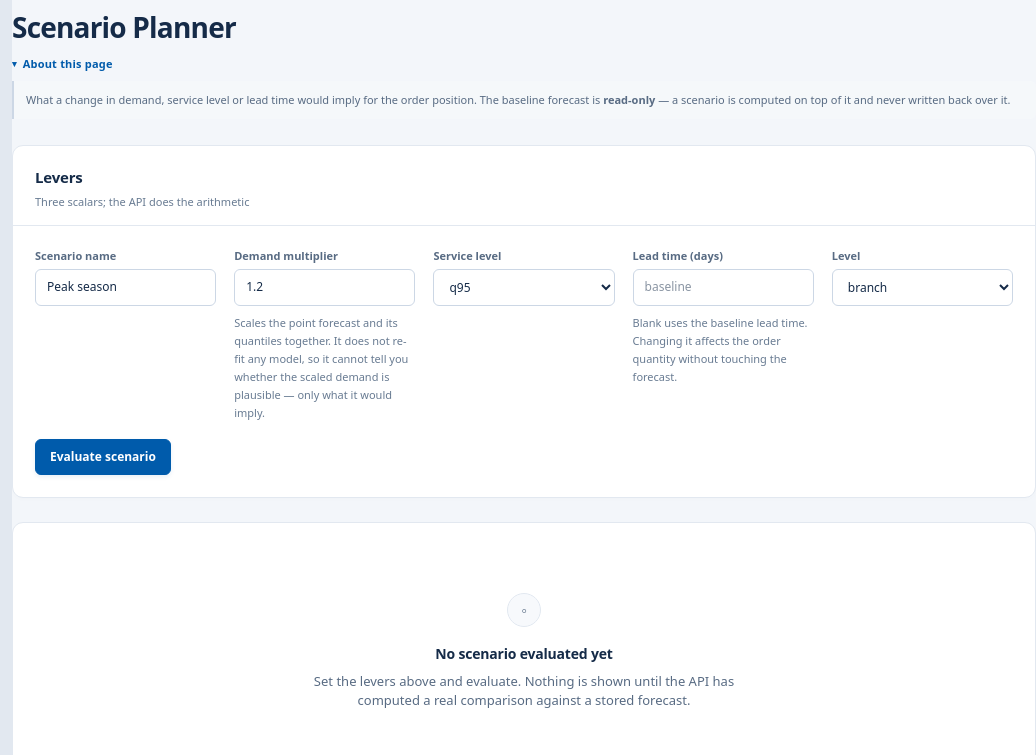
Test: ScenarioPlannerPage › shows each lever beside its baseline value
Click the button "Evaluate scenario".
click(103, 457)  # box [35,439,171,475]
(page scrolled)
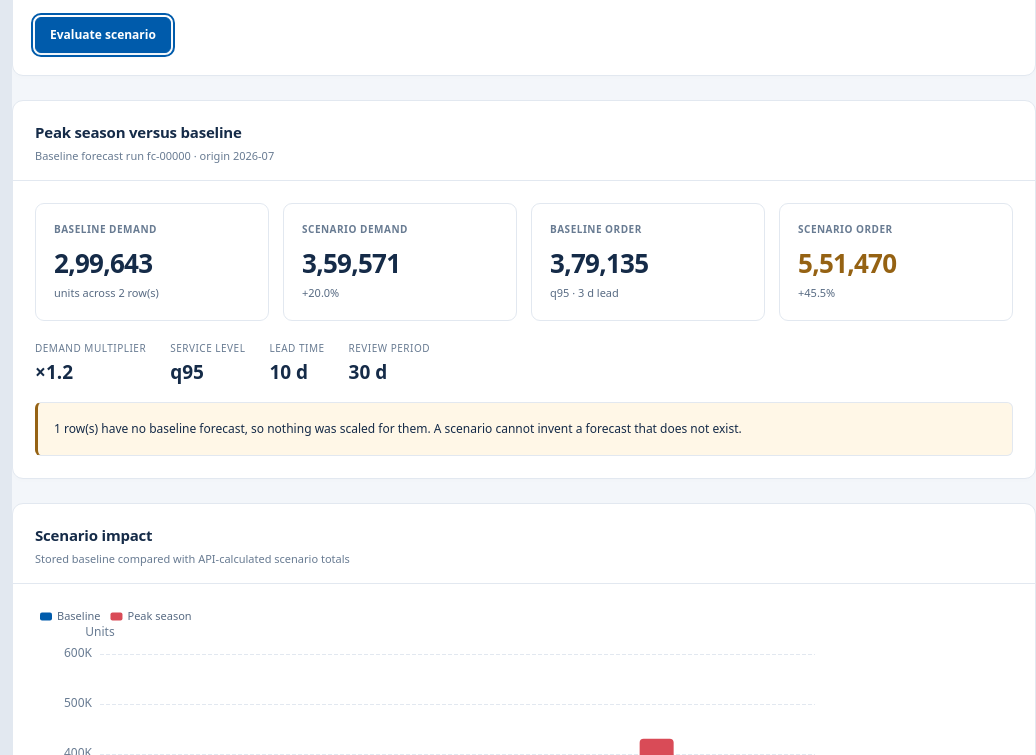
Expected: the text "×1.2" is shown, [35,359,73,385]
Expected: the text "10 d" is shown, [269,359,308,385]
